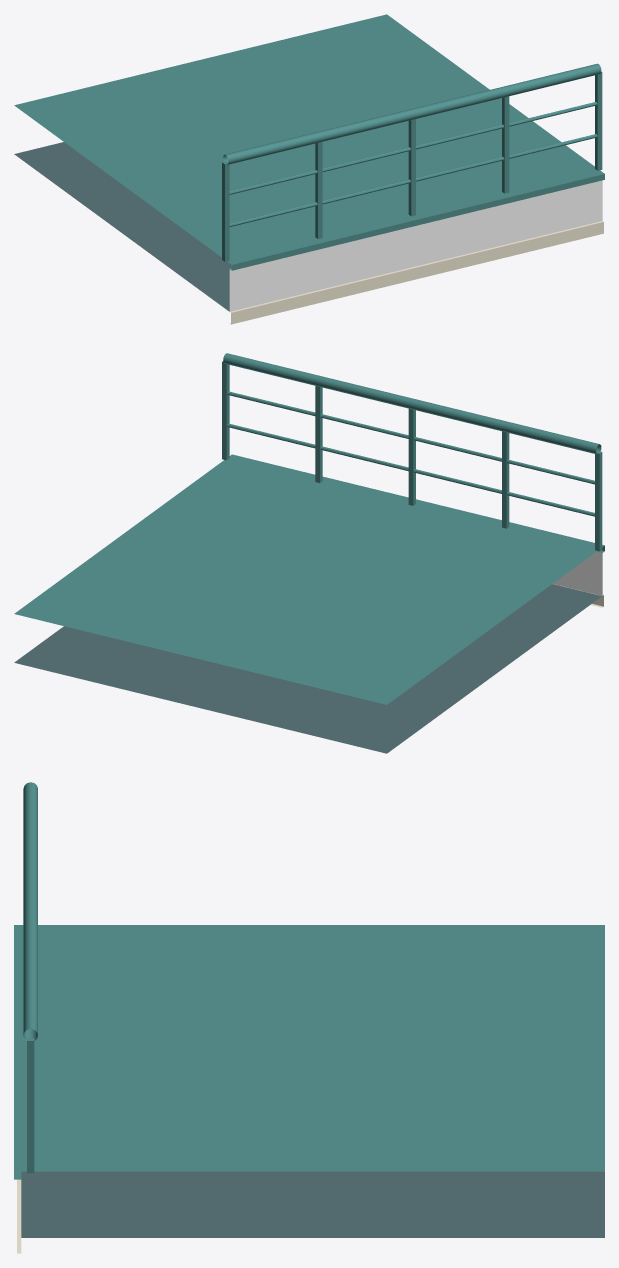
Rendered from KC32__AD_Arc_Mezzanine_Rail_Blue.glb.
3 views of the same model, one above another, from view 1: azimuth 30°, elevation 25°; view 2: azimuth 150°, elevation 25°; view 3: azimuth 270°, elevation 25° (orthographic). The views are drawn at different scales.
Parts seen in each view (by area): view 1: KC32_CORPS__AD_Arc_Mezzanine_Rail_Blue, KC32_ACCENT__AD_Arc_Mezzanine_Rail_Blue, KC32_LUMIERE__AD_Arc_Mezzanine_Rail_Blue; view 2: KC32_CORPS__AD_Arc_Mezzanine_Rail_Blue, KC32_ACCENT__AD_Arc_Mezzanine_Rail_Blue; view 3: KC32_CORPS__AD_Arc_Mezzanine_Rail_Blue.
Boxes of the visible parts, box(x1,y1,x2,y2) form: KC32_CORPS__AD_Arc_Mezzanine_Rail_Blue: box(14, 14, 604, 311); KC32_ACCENT__AD_Arc_Mezzanine_Rail_Blue: box(229, 180, 602, 311); KC32_LUMIERE__AD_Arc_Mezzanine_Rail_Blue: box(229, 221, 603, 324); KC32_CORPS__AD_Arc_Mezzanine_Rail_Blue: box(14, 353, 604, 753); KC32_ACCENT__AD_Arc_Mezzanine_Rail_Blue: box(553, 552, 602, 595); KC32_CORPS__AD_Arc_Mezzanine_Rail_Blue: box(14, 782, 604, 1237).
Bounding box in the file's own units: 4.05 × 1.7 × 4.05.
